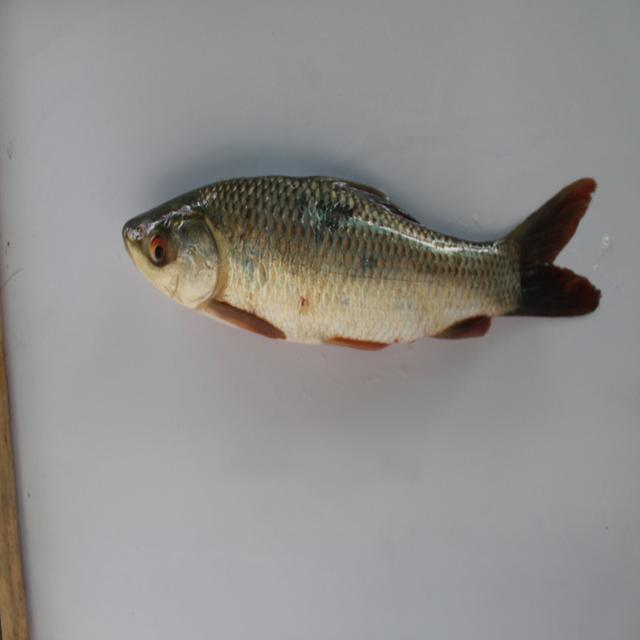Rohu: (122, 146, 604, 351)
